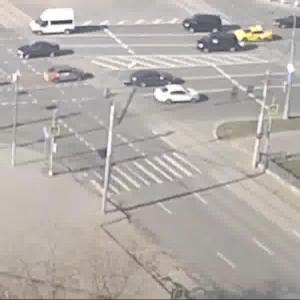car: (32, 8, 84, 37), (183, 17, 233, 41), (157, 84, 203, 108), (6, 42, 58, 60), (197, 32, 238, 52), (44, 66, 86, 83), (132, 71, 172, 85), (238, 26, 268, 44), (275, 17, 300, 33)
